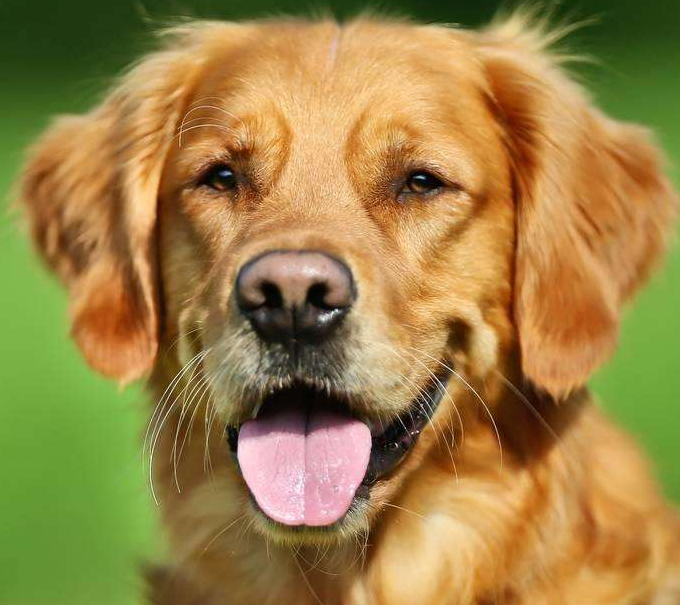nose: (228, 239, 362, 349)
